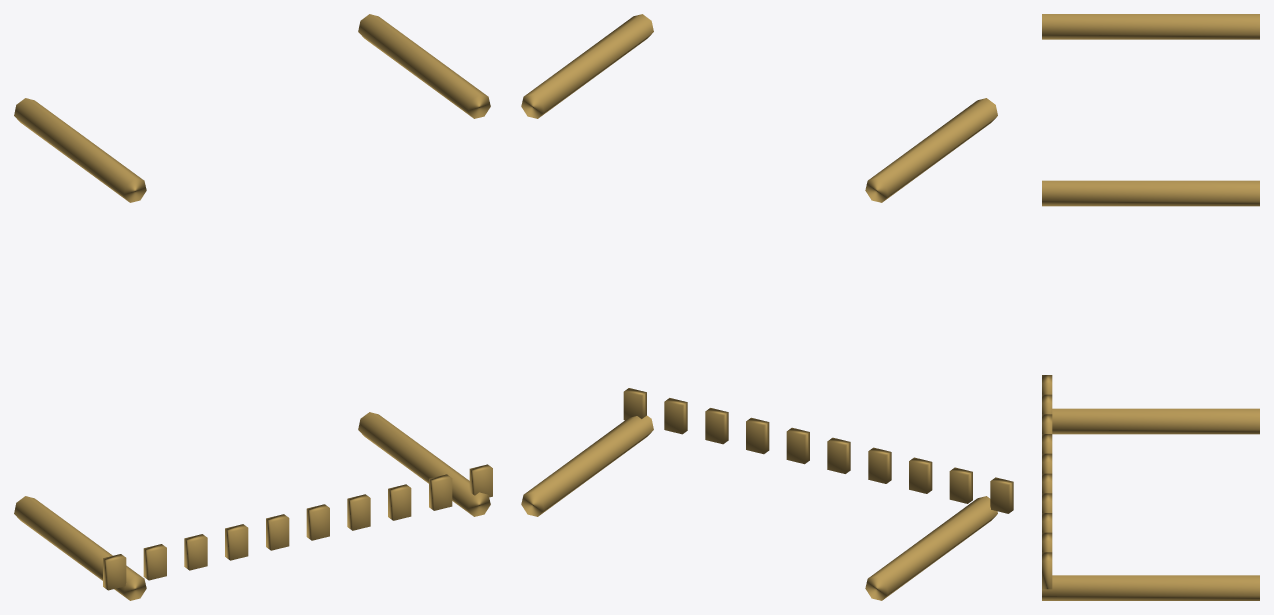
Rendered from base_gold.obj.
The picture shows the model from 3 angles, left to right: view 1: azimuth 30°, elevation 25°; view 2: azimuth 150°, elevation 25°; view 3: azimuth 270°, elevation 25°; orthographic projection.
Visible parts, largest first — view 1: base_gold; view 2: base_gold; view 3: base_gold.
Boxes of the visible parts, x1,y1,x2,y2 form: base_gold: [14, 14, 492, 600]; base_gold: [521, 14, 1013, 600]; base_gold: [1042, 14, 1259, 600].
Bounding box in the file's own units: 0.0425 × 0.0445 × 0.021.
